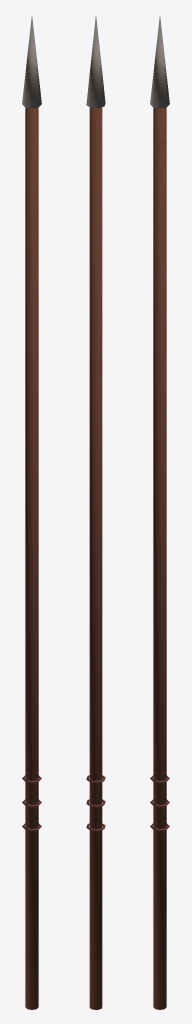
The model's file is spear.fbx.
3 renders of one model, left to right at view 1: azimuth 90°, elevation 25°; view 2: azimuth 150°, elevation 25°; view 3: azimuth 270°, elevation 25°, orthographic.
Parts seen in each view (by area): view 1: spear; view 2: spear; view 3: spear.
Part boxes in pixels (box(x1,y1,x2,y2)): spear: box(22, 16, 41, 1009); spear: box(86, 16, 105, 1009); spear: box(150, 16, 169, 1009).
Size of the model in its own units: 0.03 by 1.65 by 0.03.
2 materials, 1 textured.
